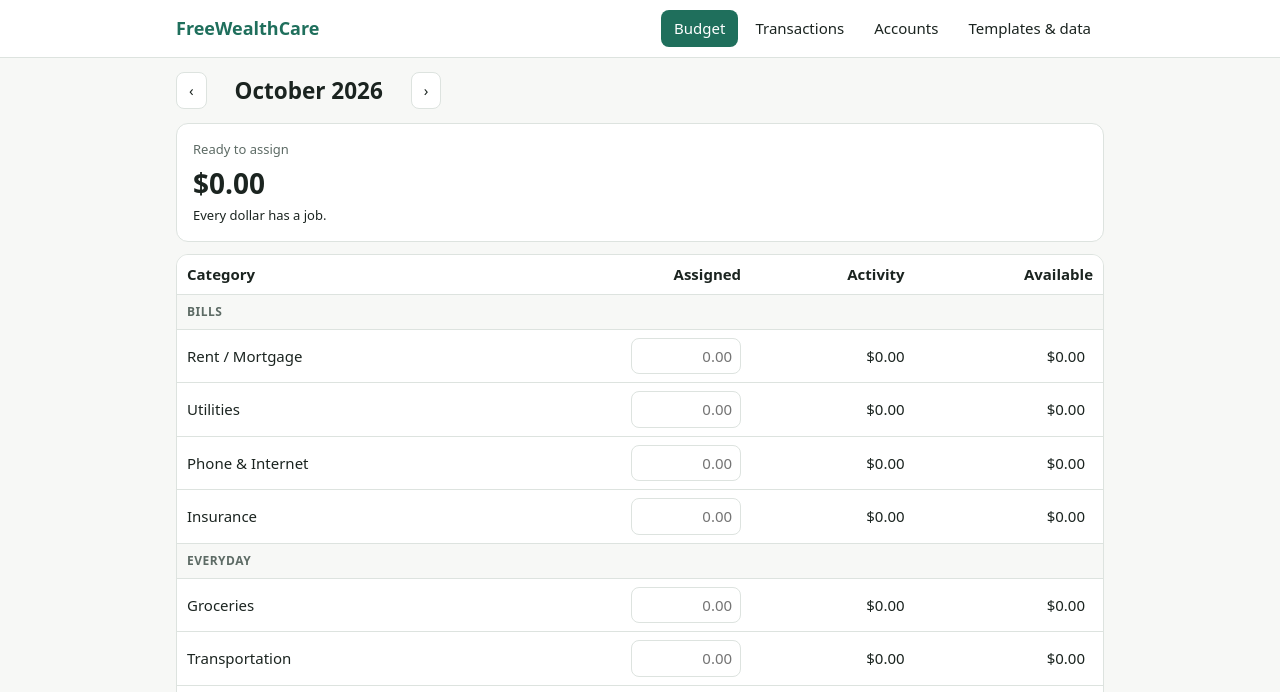
Test case: App › adds an account and shows its starting balance as ready to assign
Click the button "Accounts" at [906, 28], box [861,10,951,46]
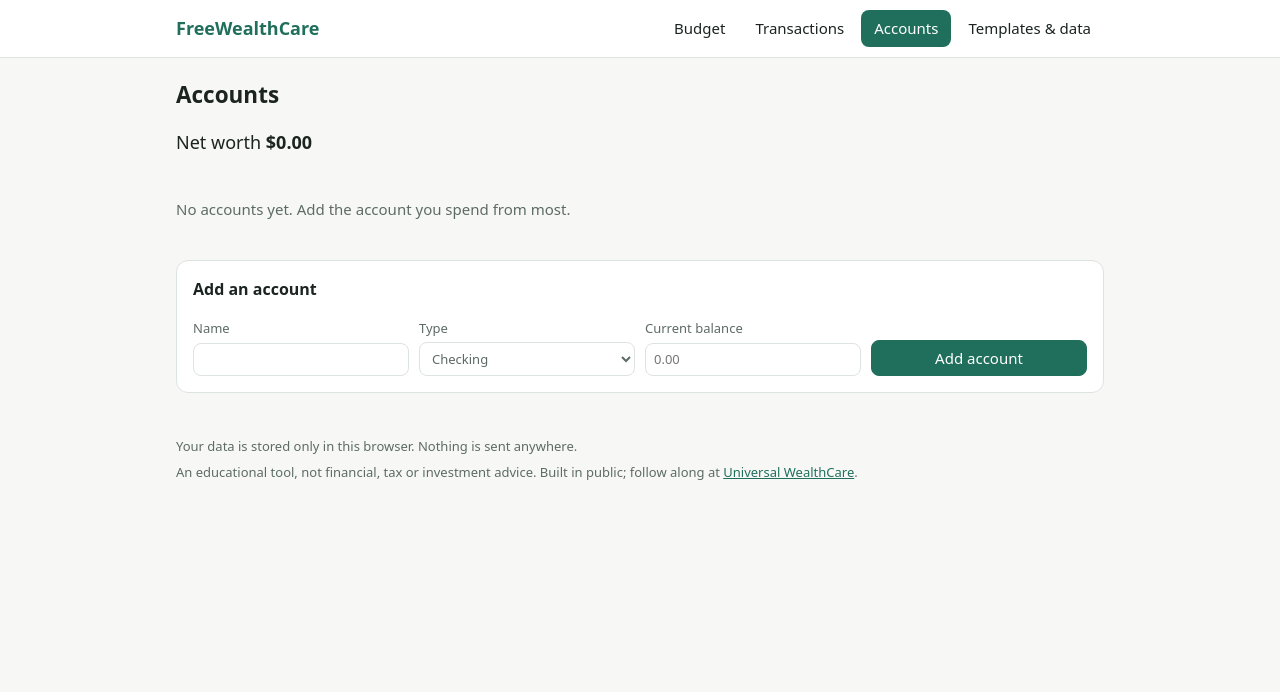
Type "Checking" into the field labelled "Name" at [301, 360], box [193,343,409,376]
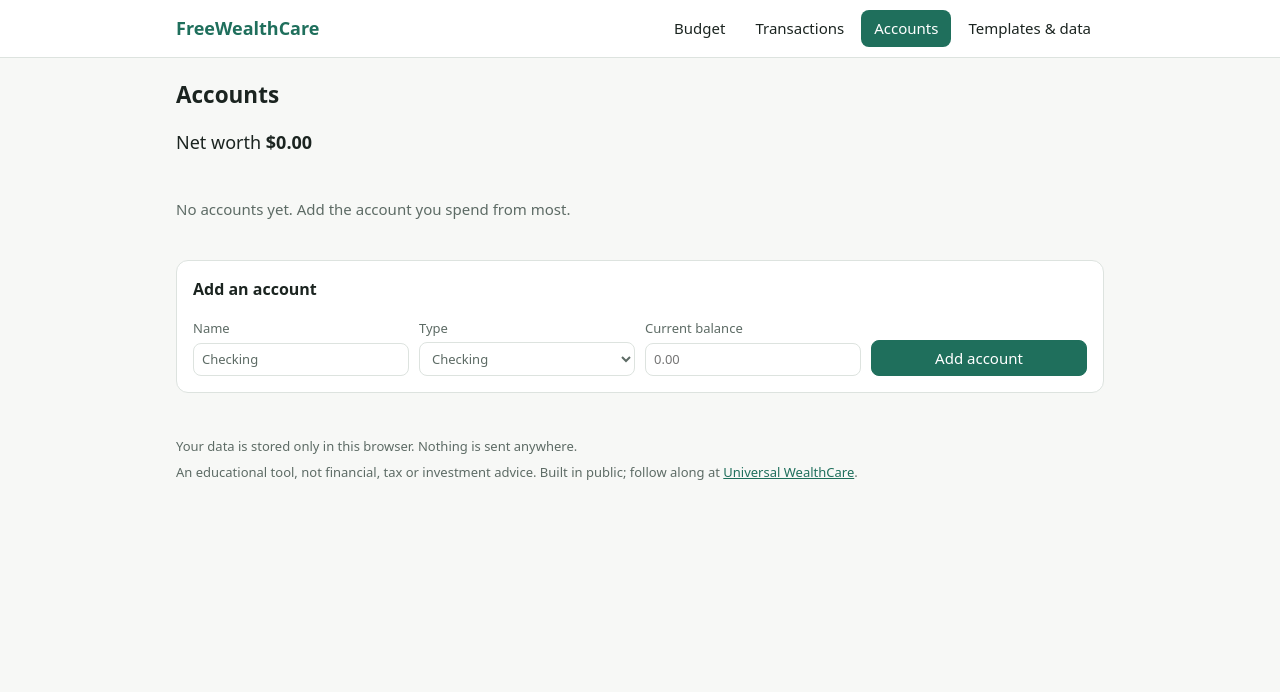
Type "1,500.00" into the field labelled "Current balance" at [753, 360], box [645,343,861,376]
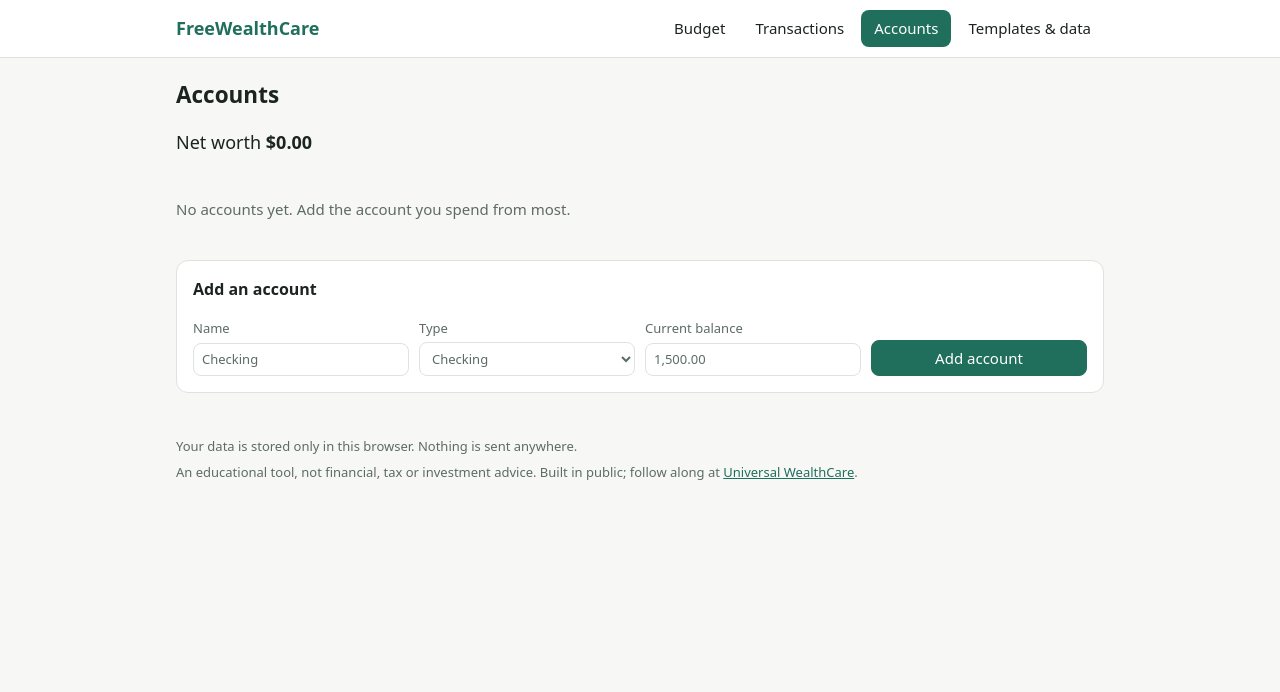
Click the button "Add account" at [979, 358], box [871,340,1087,376]
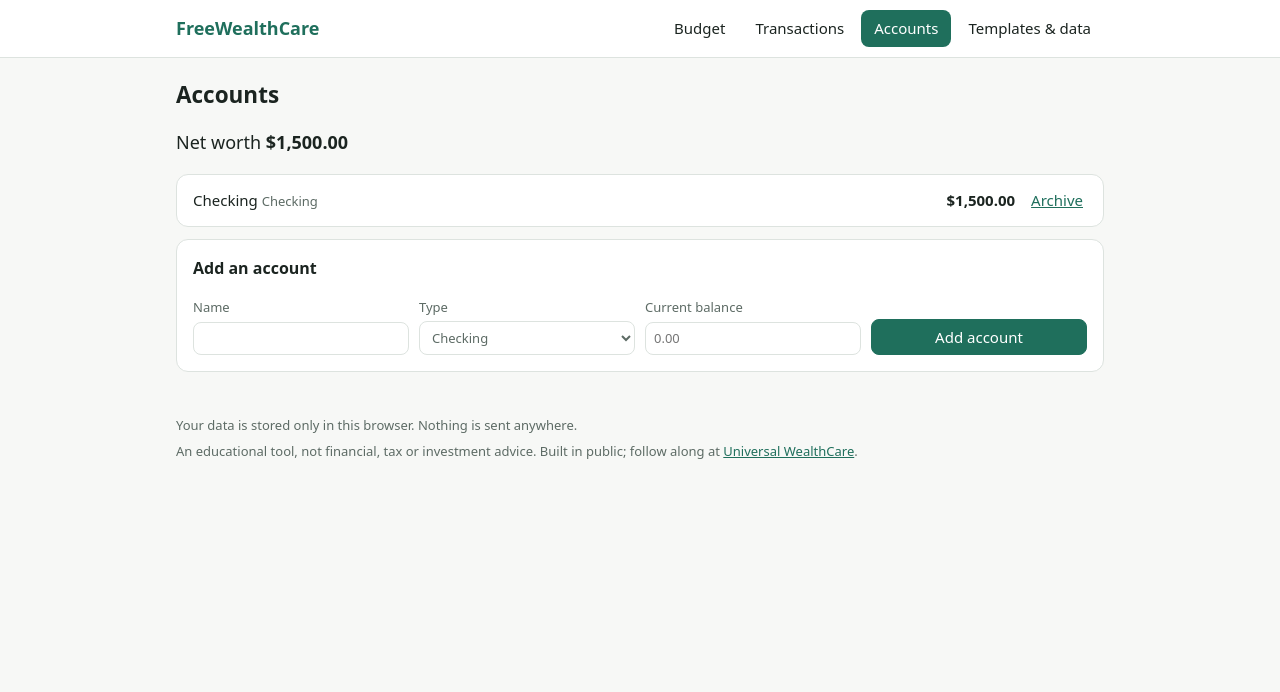
Result: the 2nd text "$1,500.00" is shown at [946,189,1015,212]
Click the button "Budget" at [700, 28], box [661,10,738,46]
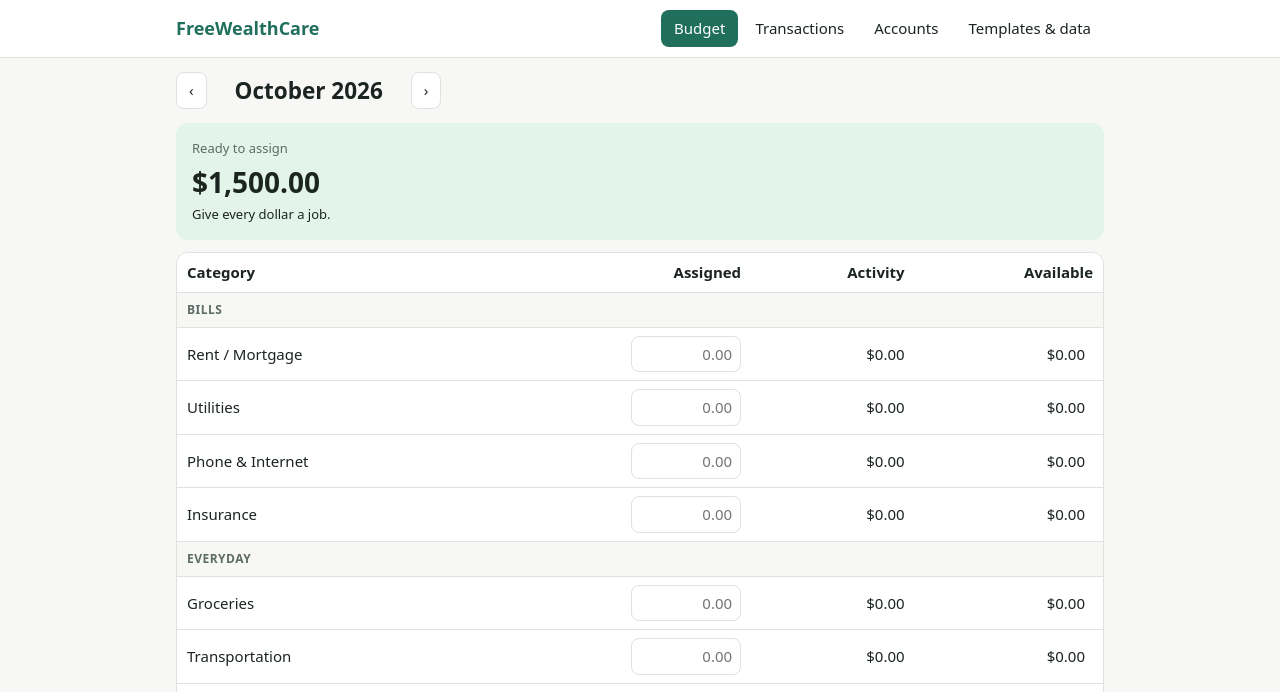
Result: the text "$1,500.00" is shown at [192,163,320,201]
Result: the text "Ready to assign" is shown at [192,139,288,157]
